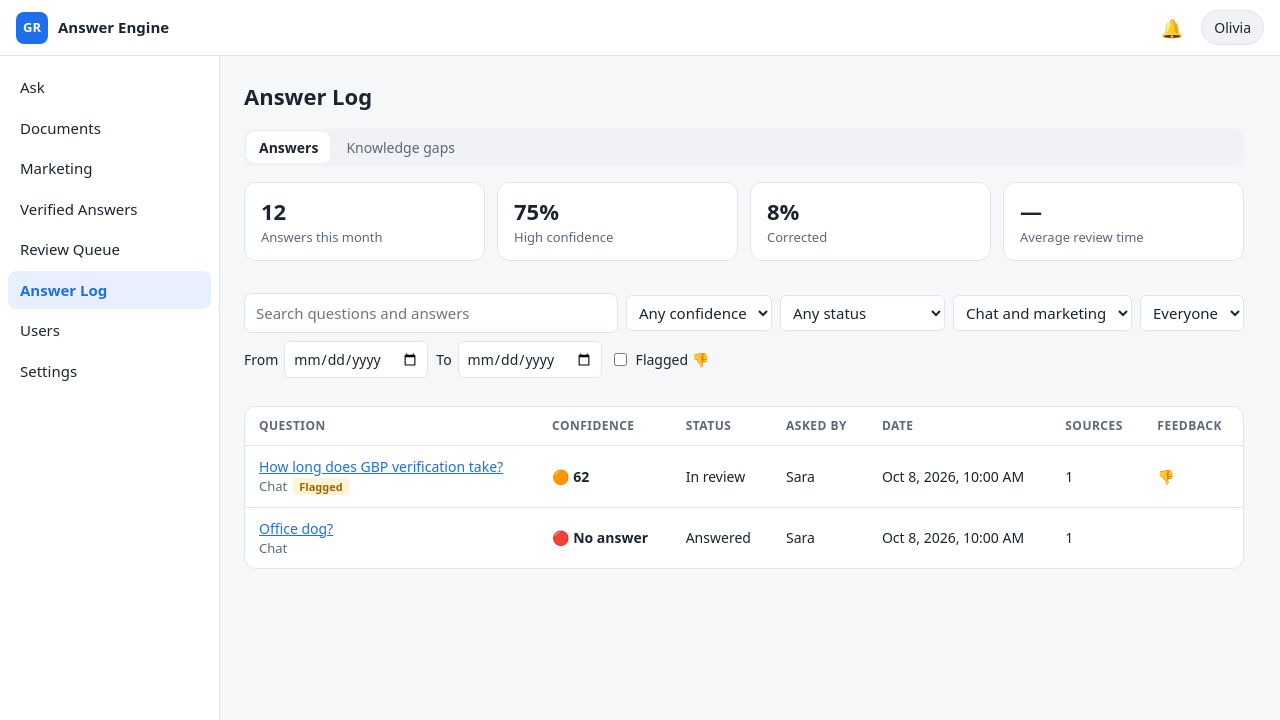
knowledge gaps show grouped questions with counts
Click the tab "Knowledge gaps": (401, 148) [334, 132, 467, 163]
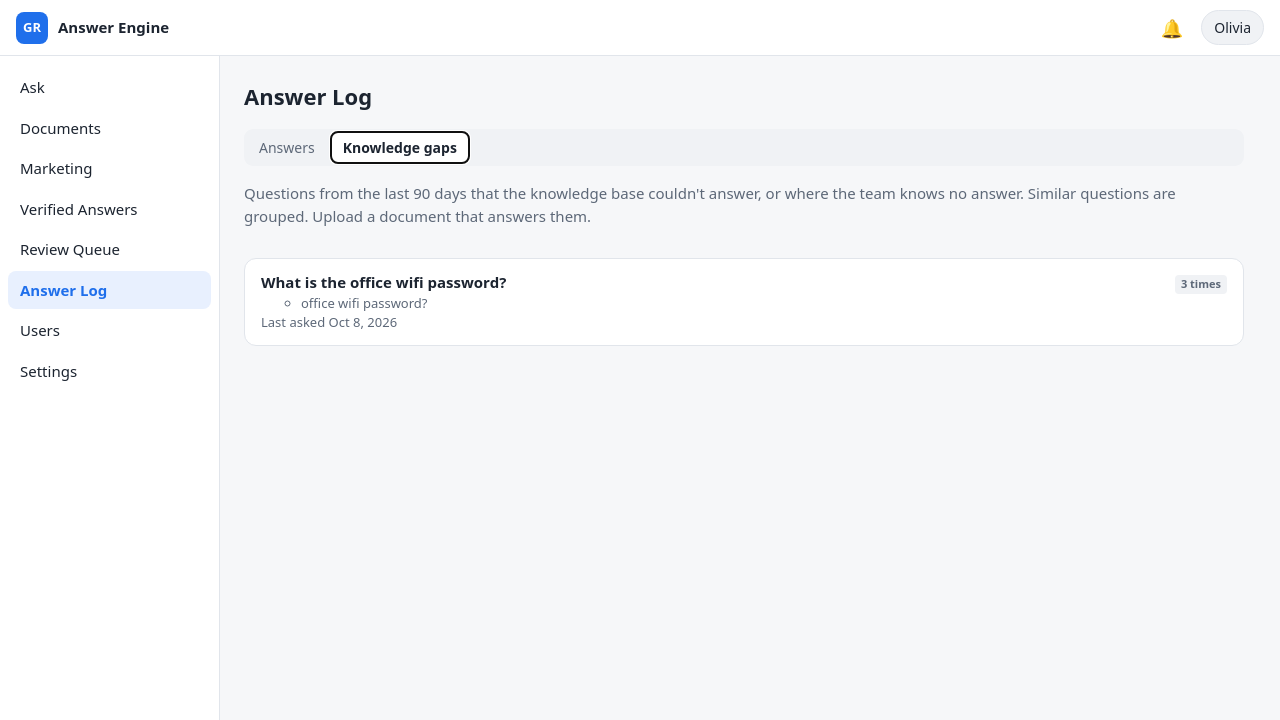
Now the text "What is the office wifi password?" is shown, box [261, 271, 506, 294]
Now the text "3 times" is shown, box [1175, 275, 1227, 294]
Now the list item "office wifi password?" is shown, box [301, 294, 428, 312]
